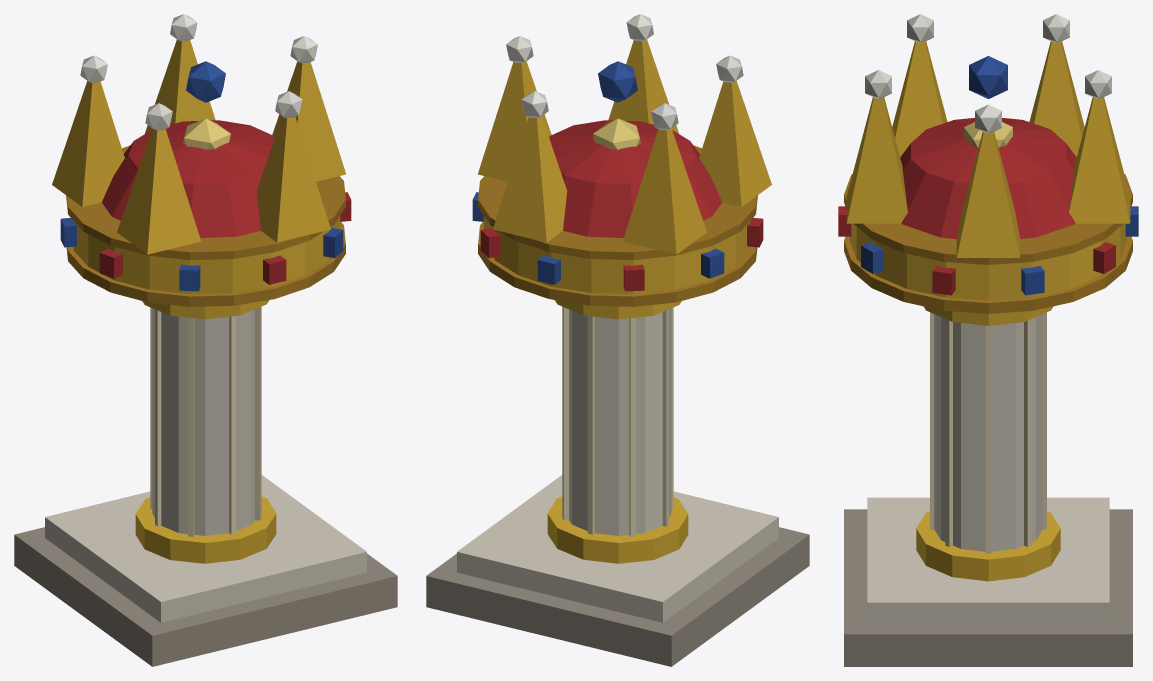
Rendered from Decor_DogeAltar_Crown.fbx.
The picture shows the model from 3 angles, left to right: view 1: azimuth 30°, elevation 25°; view 2: azimuth 150°, elevation 25°; view 3: azimuth 270°, elevation 25°; orthographic projection. The views are drawn at different scales.
Visible parts, largest first — view 1: Crown_Body; view 2: Crown_Body; view 3: Crown_Body.
Boxes of the visible parts, <box> form: Crown_Body: <box>14,14,397,666</box>; Crown_Body: <box>426,14,809,666</box>; Crown_Body: <box>838,14,1138,666</box>.
Bounding box in the file's own units: 10 × 20.2 × 10.
